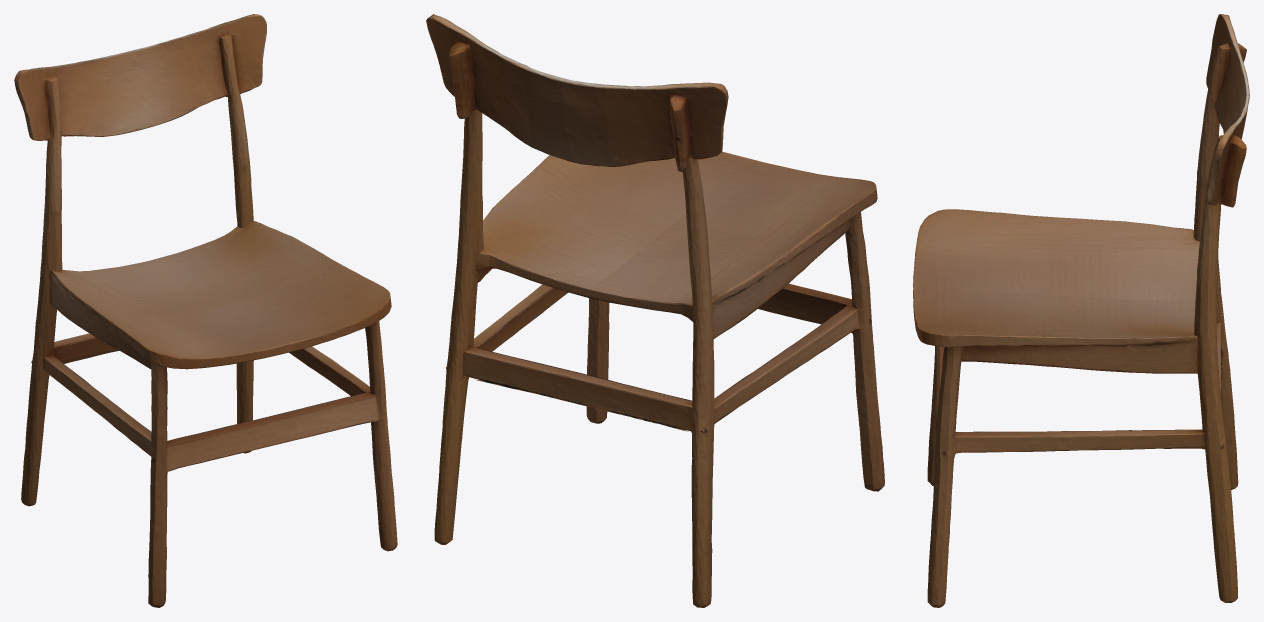
File: ast_b914f61b3e04.glb
3 renders of one model, left to right at view 1: azimuth 30°, elevation 25°; view 2: azimuth 150°, elevation 25°; view 3: azimuth 270°, elevation 25°, orthographic. The views are drawn at different scales.
Visible parts, largest first — view 1: geometry_0; view 2: geometry_0; view 3: geometry_0.
Boxes of the visible parts, x1,y1,x2,y2 form: geometry_0: (14, 14, 397, 607); geometry_0: (426, 14, 884, 607); geometry_0: (913, 14, 1249, 607).
Bounding box in the file's own units: 0.5974 × 0.9954 × 0.6469.
1 material, 1 textured.
